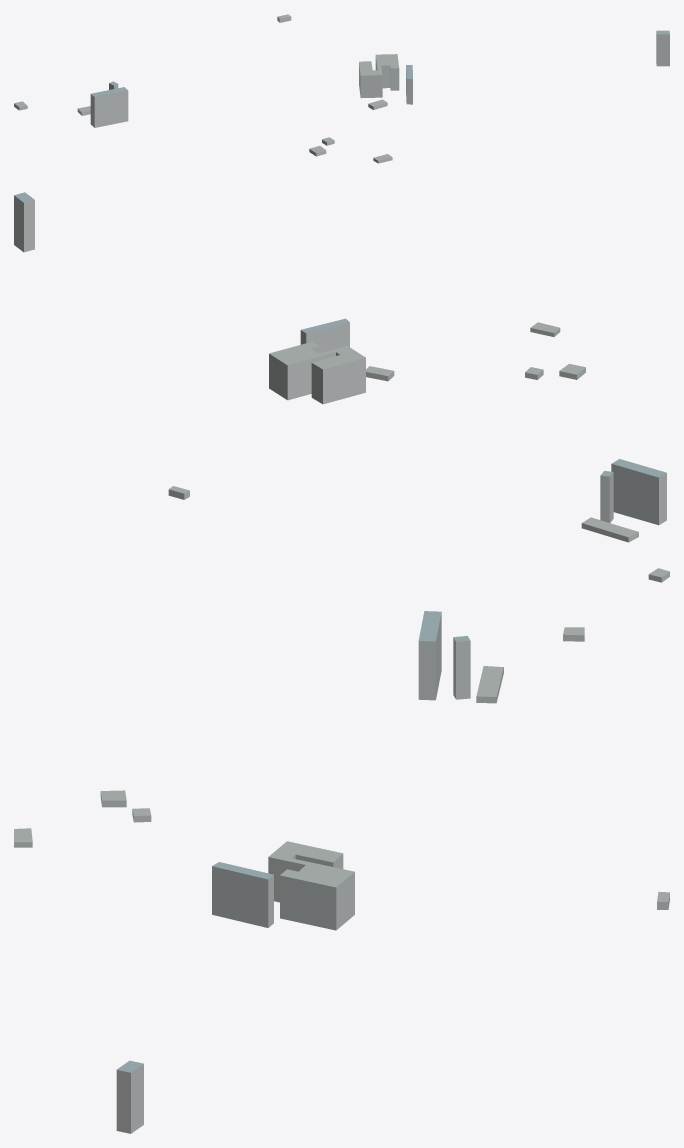
The model's file is far.glb.
3 views of the same model, one above another, from view 1: azimuth 30°, elevation 25°; view 2: azimuth 150°, elevation 25°; view 3: azimuth 270°, elevation 25° (orthographic). The views are drawn at different scales.
Bounding box in the file's own units: 417 × 23.8 × 231.
